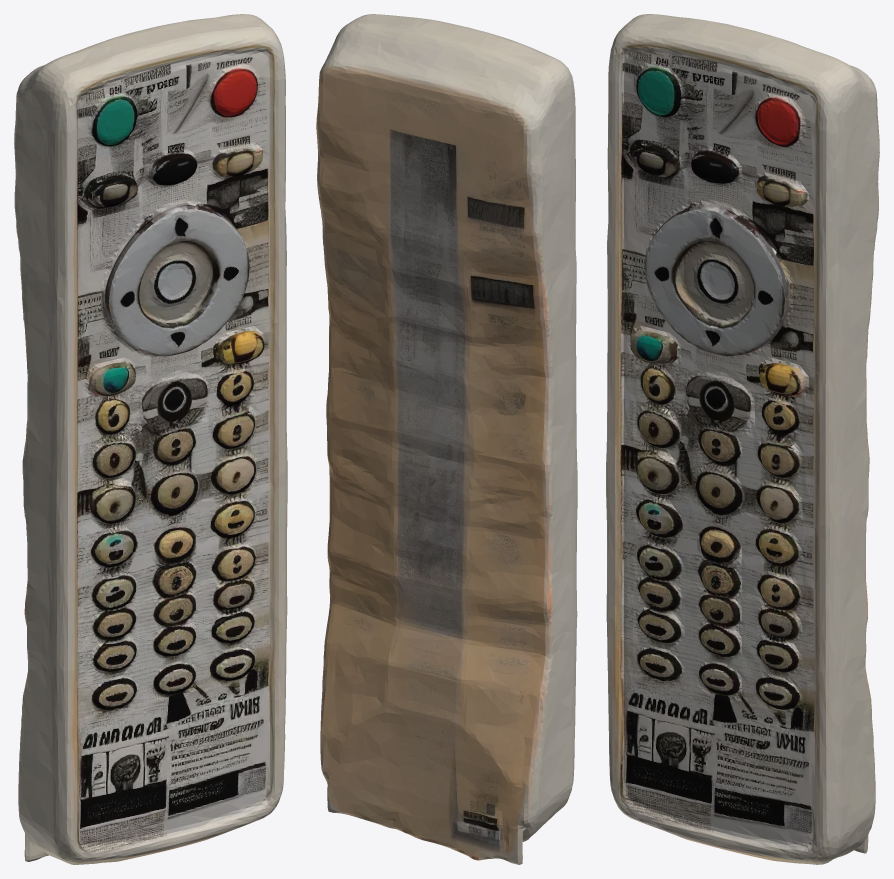
File: belly (191).glb
The picture shows the model from 3 angles, left to right: view 1: azimuth 30°, elevation 25°; view 2: azimuth 150°, elevation 25°; view 3: azimuth 330°, elevation 25°; orthographic projection. The views are drawn at different scales.
Visible parts, largest first — view 1: Hy21_Mesh.obj; view 2: Hy21_Mesh.obj; view 3: Hy21_Mesh.obj.
Boxes of the visible parts, <box> form: Hy21_Mesh.obj: <box>14,14,287,864</box>; Hy21_Mesh.obj: <box>316,14,577,864</box>; Hy21_Mesh.obj: <box>606,14,879,864</box>.
Size of the model in its own units: 0.5824 by 1.95 by 0.2405.
Materials: 1 (1 with a texture image).
